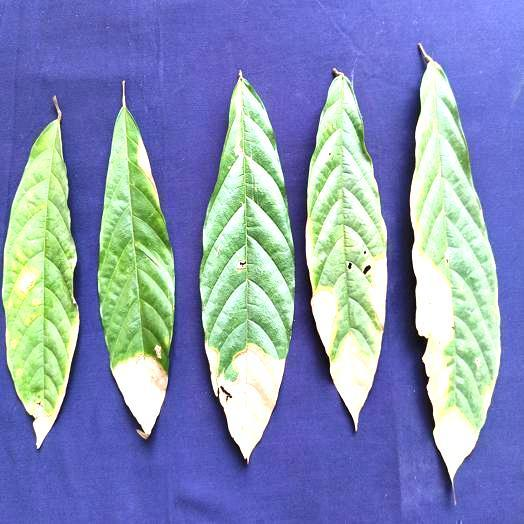Potassium: (410, 46, 500, 486), (199, 71, 294, 461), (306, 69, 386, 428), (98, 82, 174, 438), (3, 97, 78, 448)
